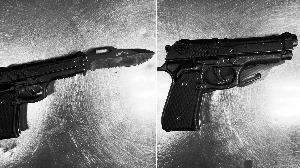handgun: (0, 35, 154, 143), (156, 22, 294, 130)
